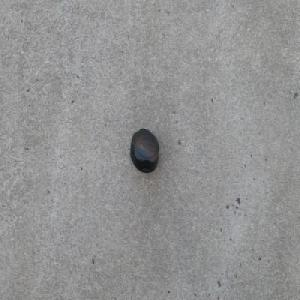FuelCap: (130, 128, 159, 174)
